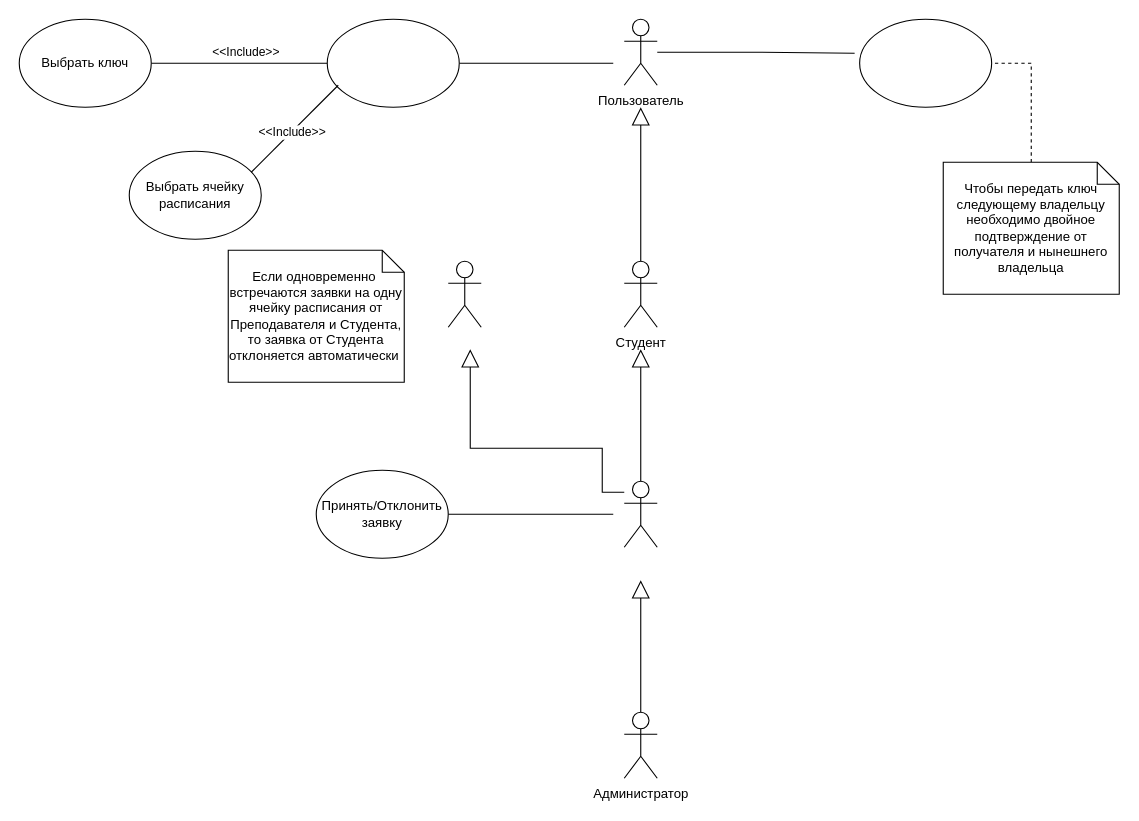
This 1139x821 diagram has some shape labels left out. Here are the shapes that lost their labels. From the top down, the centre of each, then its label:
(x=392, y=62): Create/Delete заявка
(x=925, y=62): Передать/Принять ключ
(x=464, y=293): Преподаватель
(x=640, y=513): Деканат
